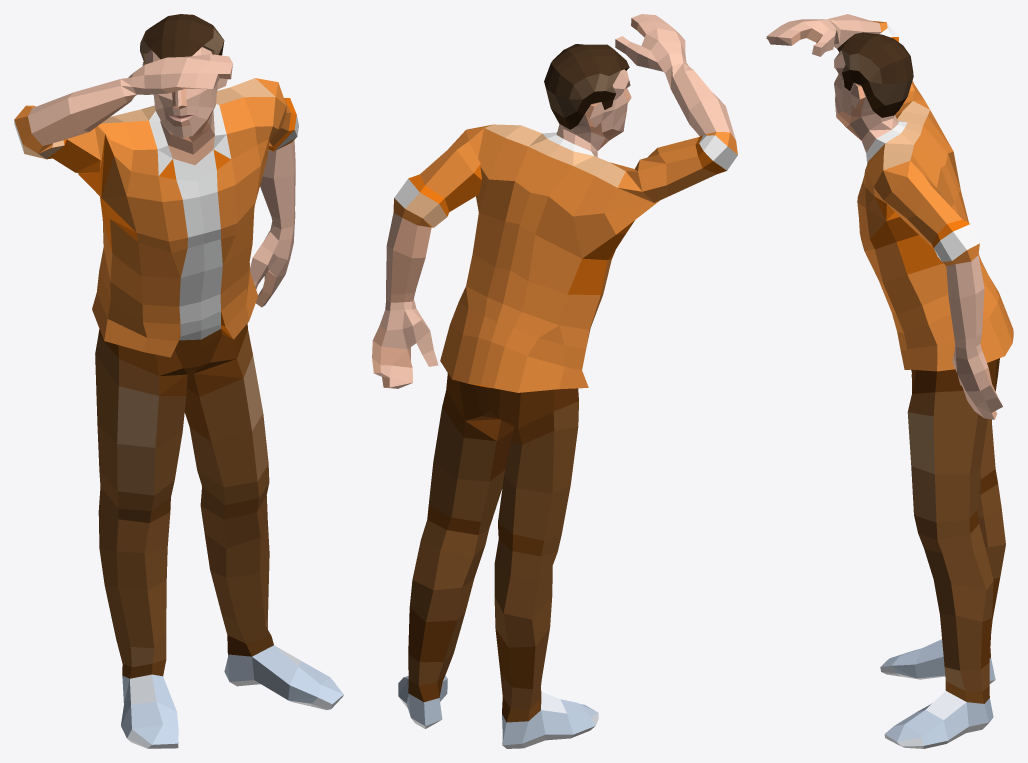
The model's file is basketballzhuren.glb.
The picture shows the model from 3 angles, left to right: view 1: azimuth 30°, elevation 25°; view 2: azimuth 150°, elevation 25°; view 3: azimuth 270°, elevation 25°; orthographic projection. The views are drawn at different scales.
Parts seen in each view (by area): view 1: huitugou_2139_335.002; view 2: huitugou_2139_335.002; view 3: huitugou_2139_335.002.
Boxes of the visible parts, x1,y1,x2,y2 form: huitugou_2139_335.002: [14, 14, 343, 748]; huitugou_2139_335.002: [372, 14, 737, 748]; huitugou_2139_335.002: [766, 14, 1013, 748].
Size of the model in its own units: 0.8389 by 1.71 by 0.6018.
Materials: 1 (1 with a texture image).
